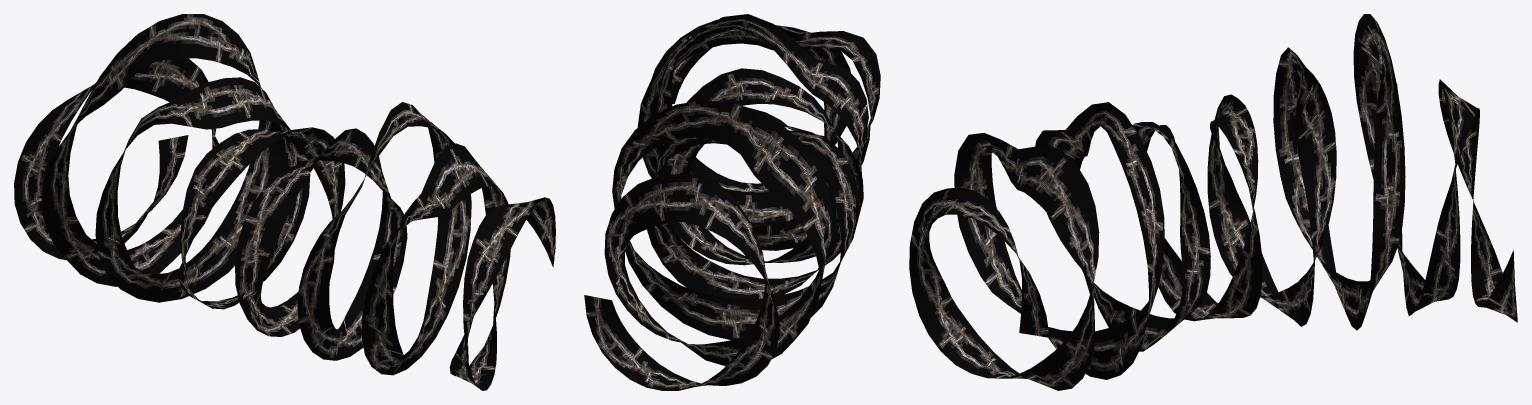
Rendered from barbedwire_set_bend45.glb.
3 renders of one model, left to right at view 1: azimuth 30°, elevation 25°; view 2: azimuth 150°, elevation 25°; view 3: azimuth 270°, elevation 25°, orthographic. The views are drawn at different scales.
Visible parts, largest first — view 1: barbedwire_set_bend45; view 2: barbedwire_set_bend45; view 3: barbedwire_set_bend45.
Boxes of the visible parts, x1,y1,x2,y2 form: barbedwire_set_bend45: (14, 14, 555, 390); barbedwire_set_bend45: (584, 14, 880, 390); barbedwire_set_bend45: (909, 14, 1517, 390).
Size of the model in its own units: 4.27 by 3.16 by 6.
Materials: 1 (1 with a texture image).
